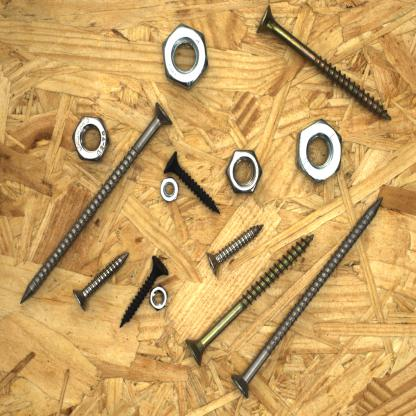screw: (16, 98, 175, 308), (228, 192, 385, 401), (182, 232, 318, 369), (255, 1, 396, 124), (162, 149, 224, 218), (118, 252, 172, 330), (70, 249, 132, 314), (203, 221, 268, 281)
